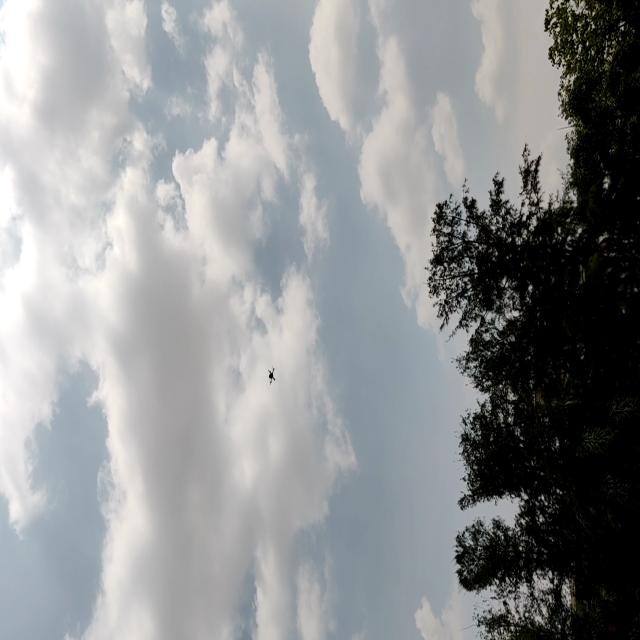drone: (266, 361, 277, 389)
